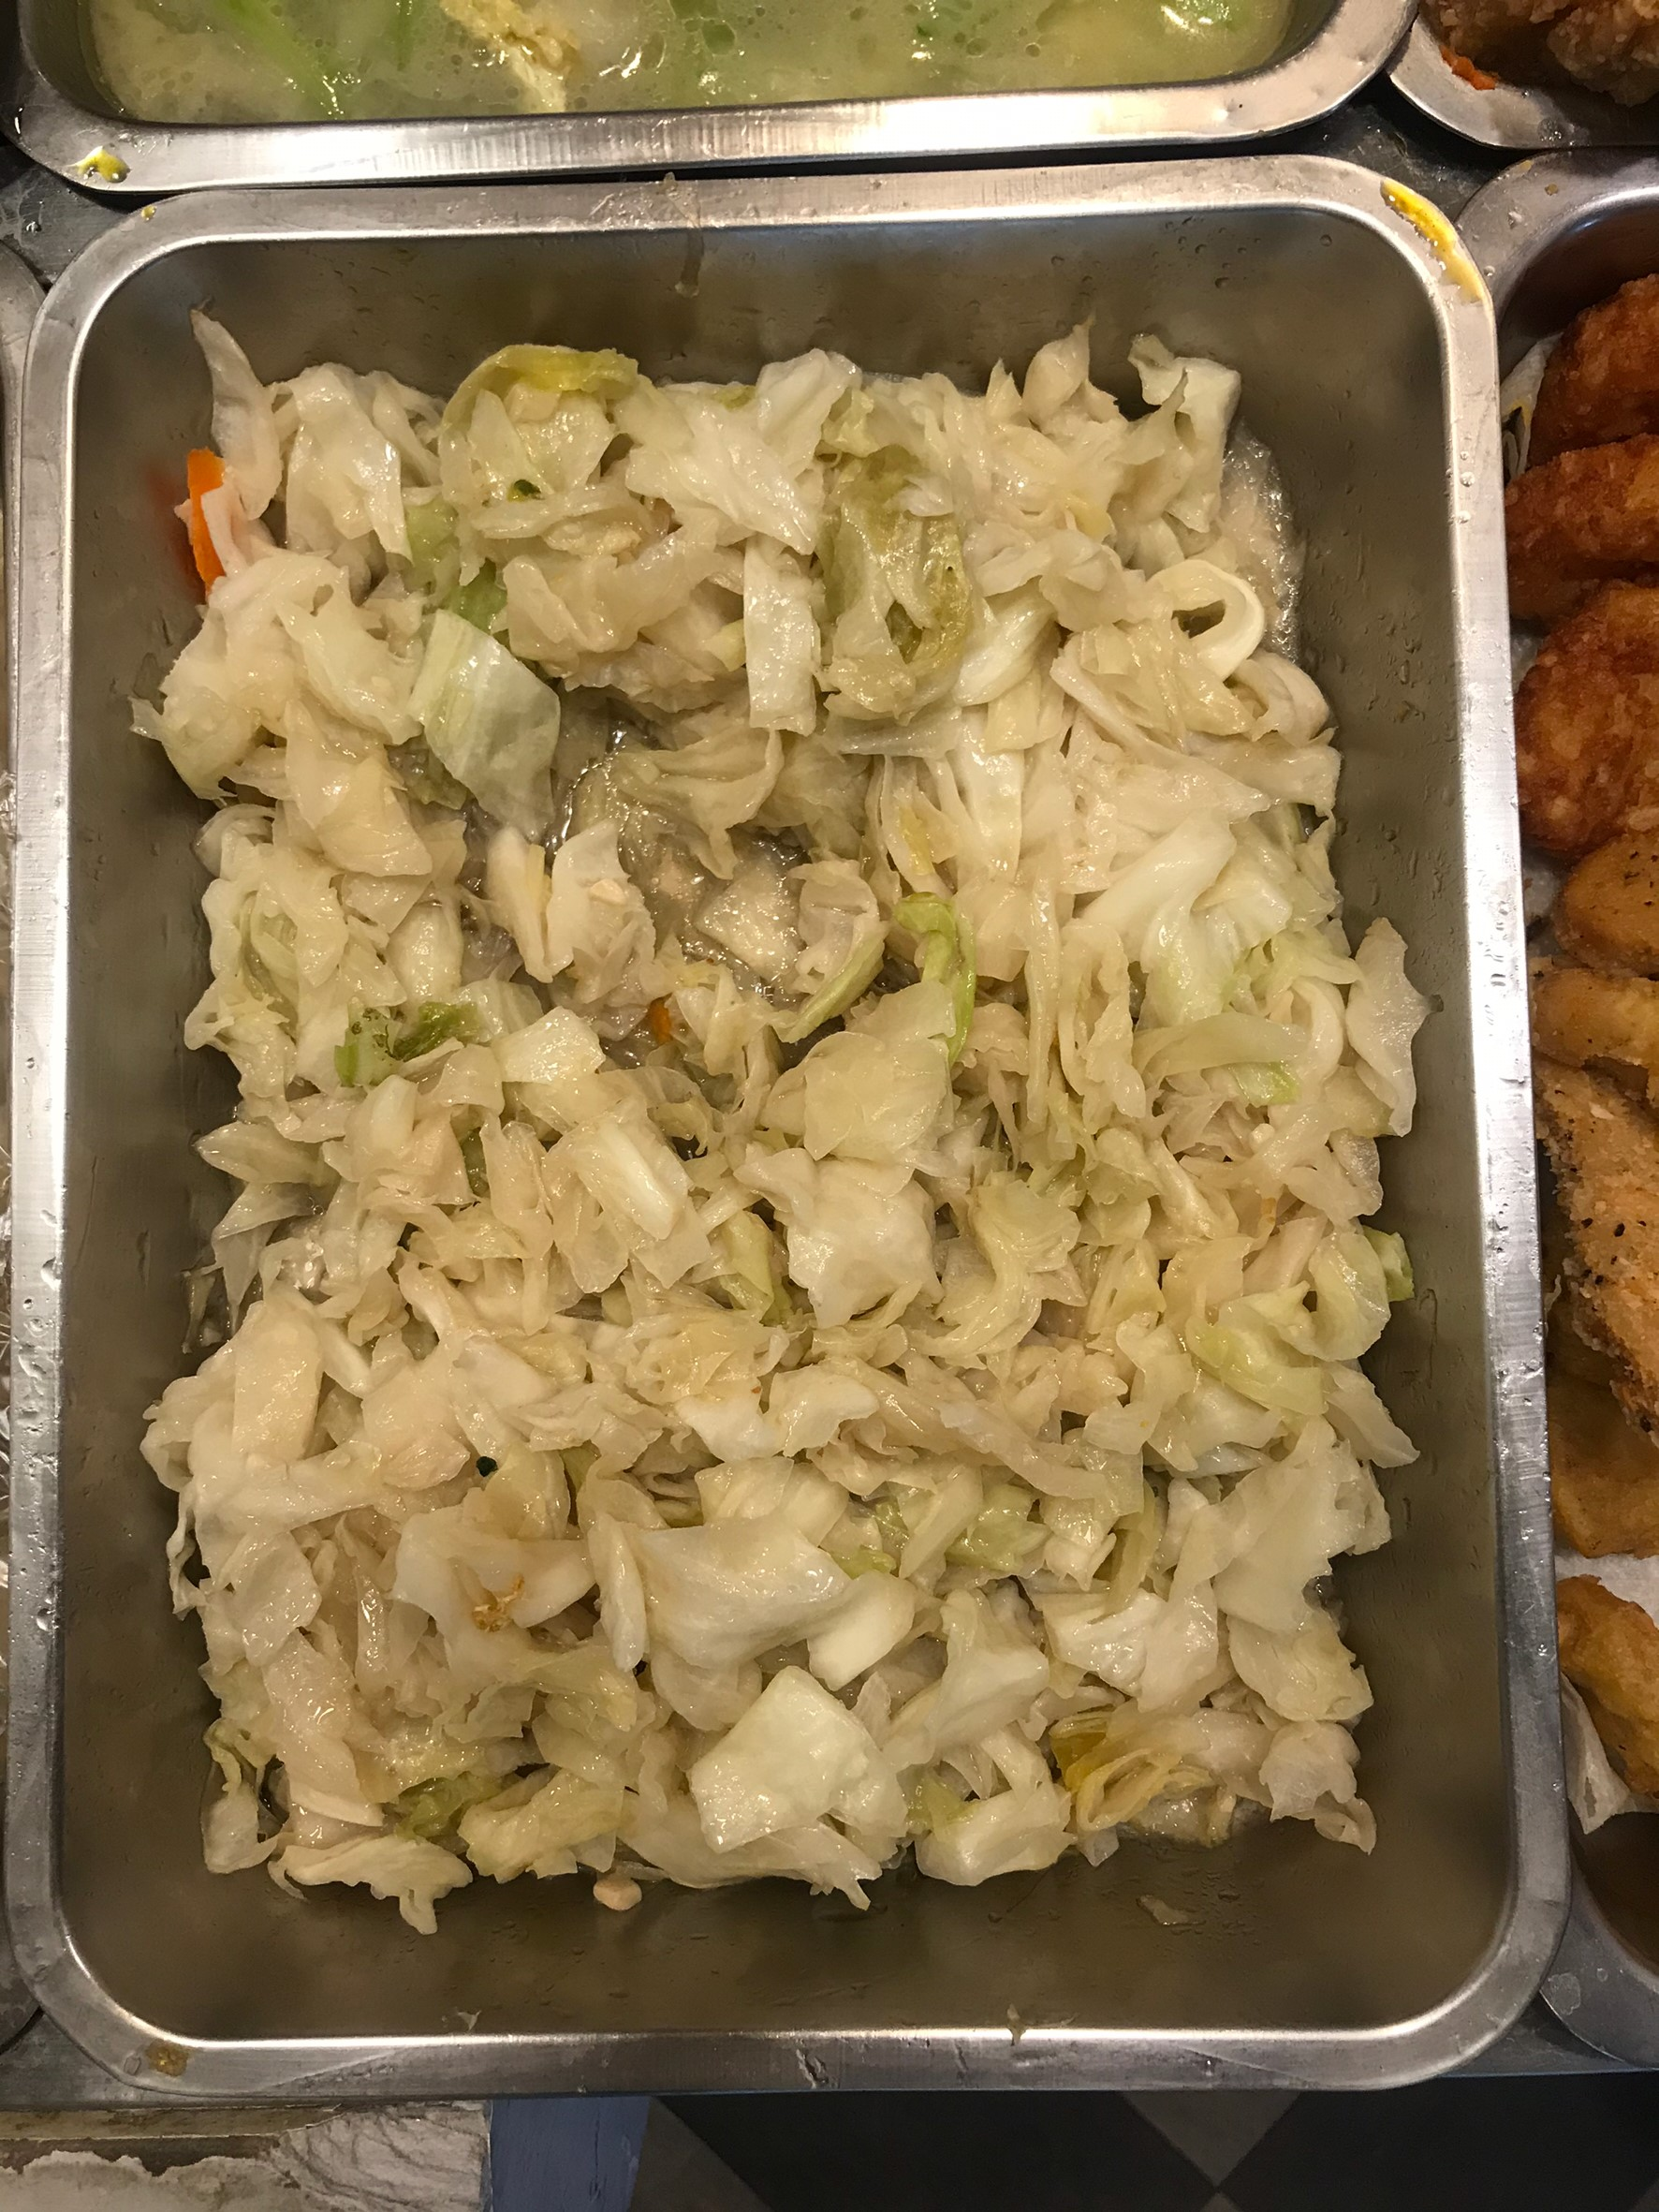chinese_cabbage: (202, 385, 1314, 1769)
